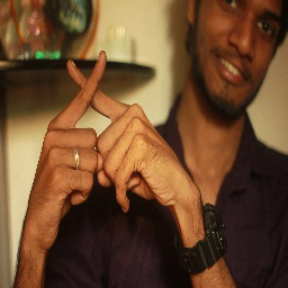X: (44, 43, 147, 175)
